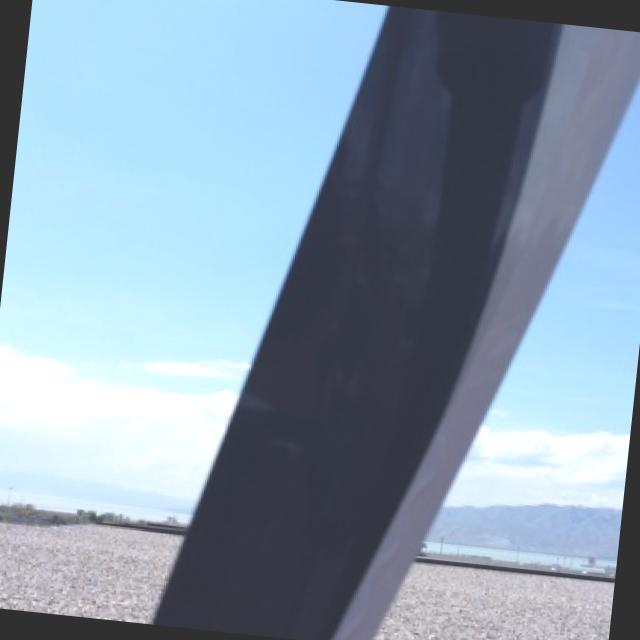healthy: (555, 90, 640, 326)
